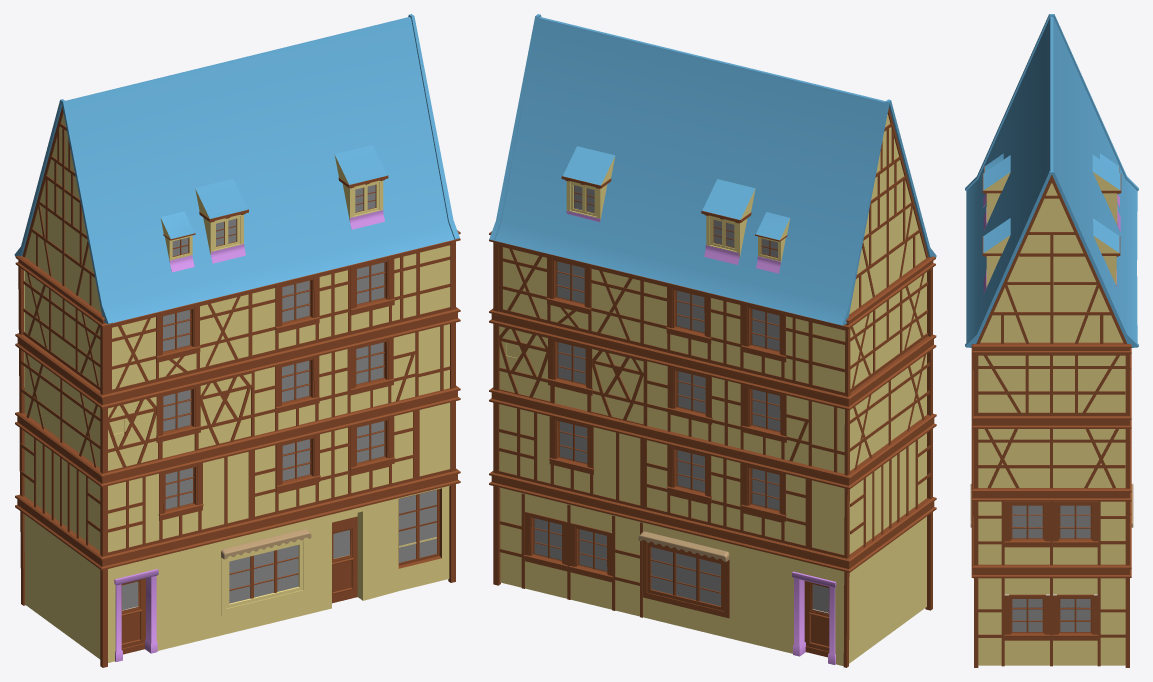
Rendered from muwu12.FBX.
The picture shows the model from 3 angles, left to right: view 1: azimuth 30°, elevation 25°; view 2: azimuth 150°, elevation 25°; view 3: azimuth 270°, elevation 25°; orthographic projection. The views are drawn at different scales.
Parts seen in each view (by area): view 1: HouseMD02_PlasterYellow, HouseMD02_RoofTiles, HouseMD02_Wood_Beams, HouseMD02_Glass, HouseMD02_Mullions_Wood, HouseMD02_WoodDark, HouseMD02_Stone_Stacked, HouseMD02_Metal_Pitted, HouseMD02_Cloth; view 2: HouseMD02_PlasterYellow, HouseMD02_RoofTiles, HouseMD02_Wood_Beams, HouseMD02_Glass, HouseMD02_Mullions_Wood, HouseMD02_Stone_Stacked, HouseMD02_WoodDark, HouseMD02_Cloth, HouseMD02_Metal_Pitted; view 3: HouseMD02_PlasterYellow, HouseMD02_Wood_Beams, HouseMD02_RoofTiles, HouseMD02_Glass, HouseMD02_Mullions_Wood, HouseMD02_Metal_Pitted.
Boxes of the visible parts, x1,y1,x2,y2 form: HouseMD02_PlasterYellow: [24, 113, 450, 662]; HouseMD02_RoofTiles: [14, 14, 459, 323]; HouseMD02_Wood_Beams: [15, 107, 460, 667]; HouseMD02_Glass: [122, 184, 436, 610]; HouseMD02_Mullions_Wood: [124, 185, 441, 598]; HouseMD02_WoodDark: [121, 516, 357, 654]; HouseMD02_Stone_Stacked: [114, 569, 158, 661]; HouseMD02_Metal_Pitted: [169, 210, 384, 272]; HouseMD02_Cloth: [221, 529, 311, 559]; HouseMD02_PlasterYellow: [499, 114, 926, 665]; HouseMD02_RoofTiles: [489, 14, 936, 325]; HouseMD02_Wood_Beams: [489, 107, 936, 667]; HouseMD02_Glass: [525, 185, 828, 612]; HouseMD02_Mullions_Wood: [533, 185, 780, 611]; HouseMD02_Stone_Stacked: [792, 571, 836, 664]; HouseMD02_WoodDark: [804, 581, 829, 657]; HouseMD02_Cloth: [638, 531, 729, 561]; HouseMD02_Metal_Pitted: [566, 210, 780, 273]; HouseMD02_PlasterYellow: [978, 172, 1125, 665]; HouseMD02_Wood_Beams: [971, 166, 1131, 667]; HouseMD02_RoofTiles: [965, 14, 1138, 347]; HouseMD02_Glass: [1012, 505, 1090, 631]; HouseMD02_Mullions_Wood: [1011, 505, 1091, 632]; HouseMD02_Metal_Pitted: [983, 194, 1120, 293].
Size of the model in its own units: 10.44 by 14.9 by 4.74.
